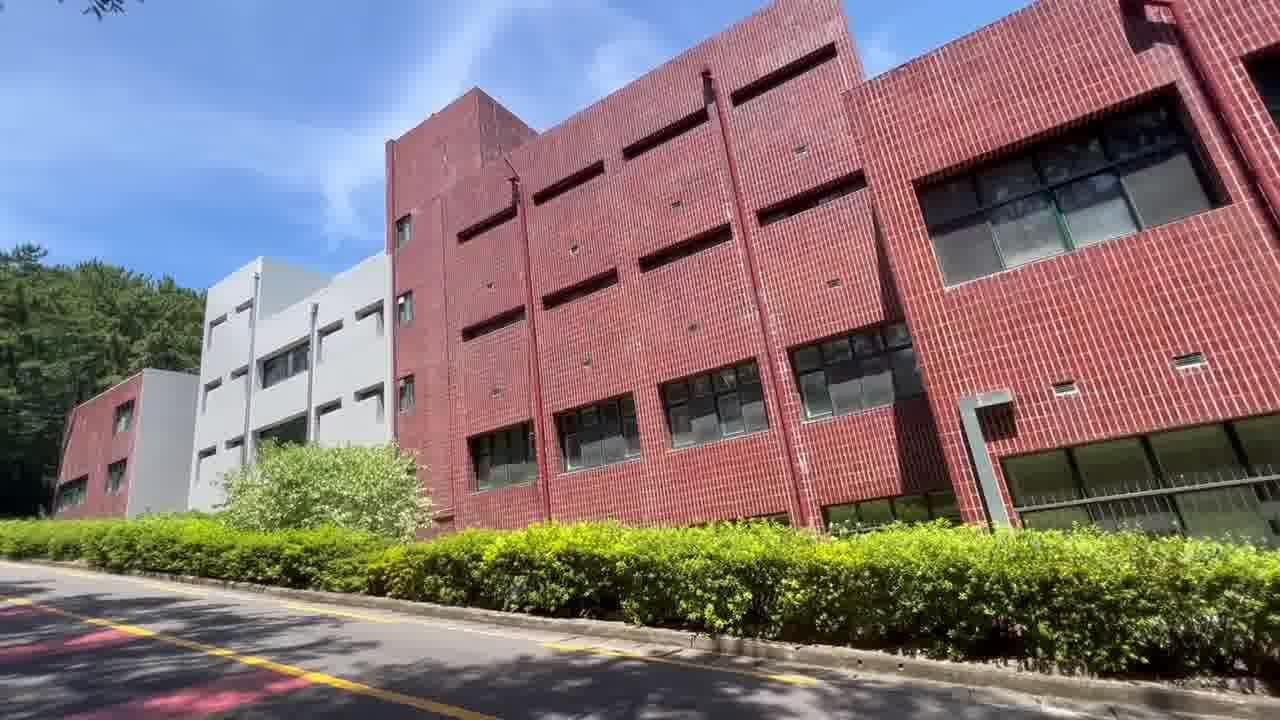building: (167, 6, 1280, 513)
